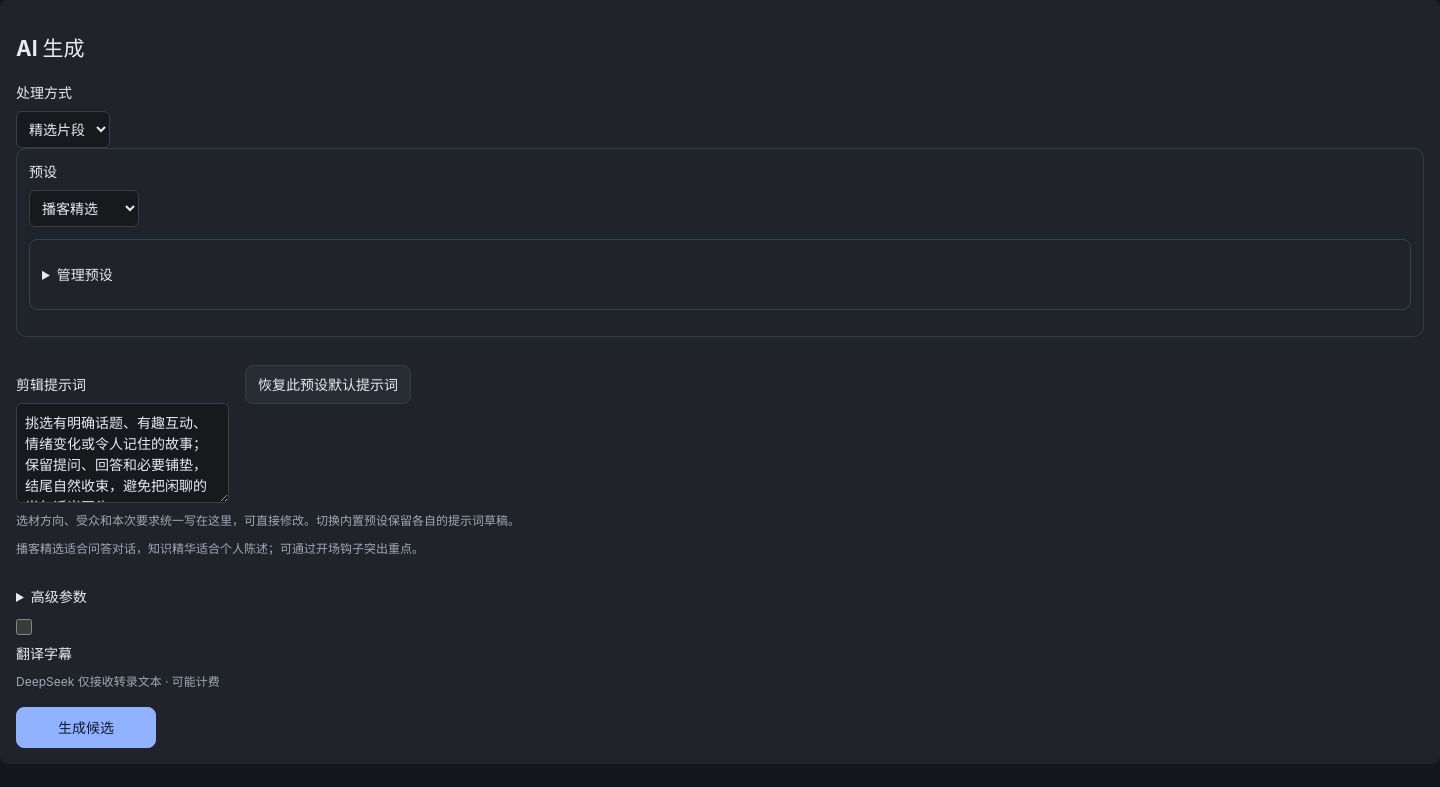
Scenario: 不完整的工作流程不能误存为模板，说明需要修正的参数
Click the heading "管理预设": click(85, 275) [57,266,113,283]
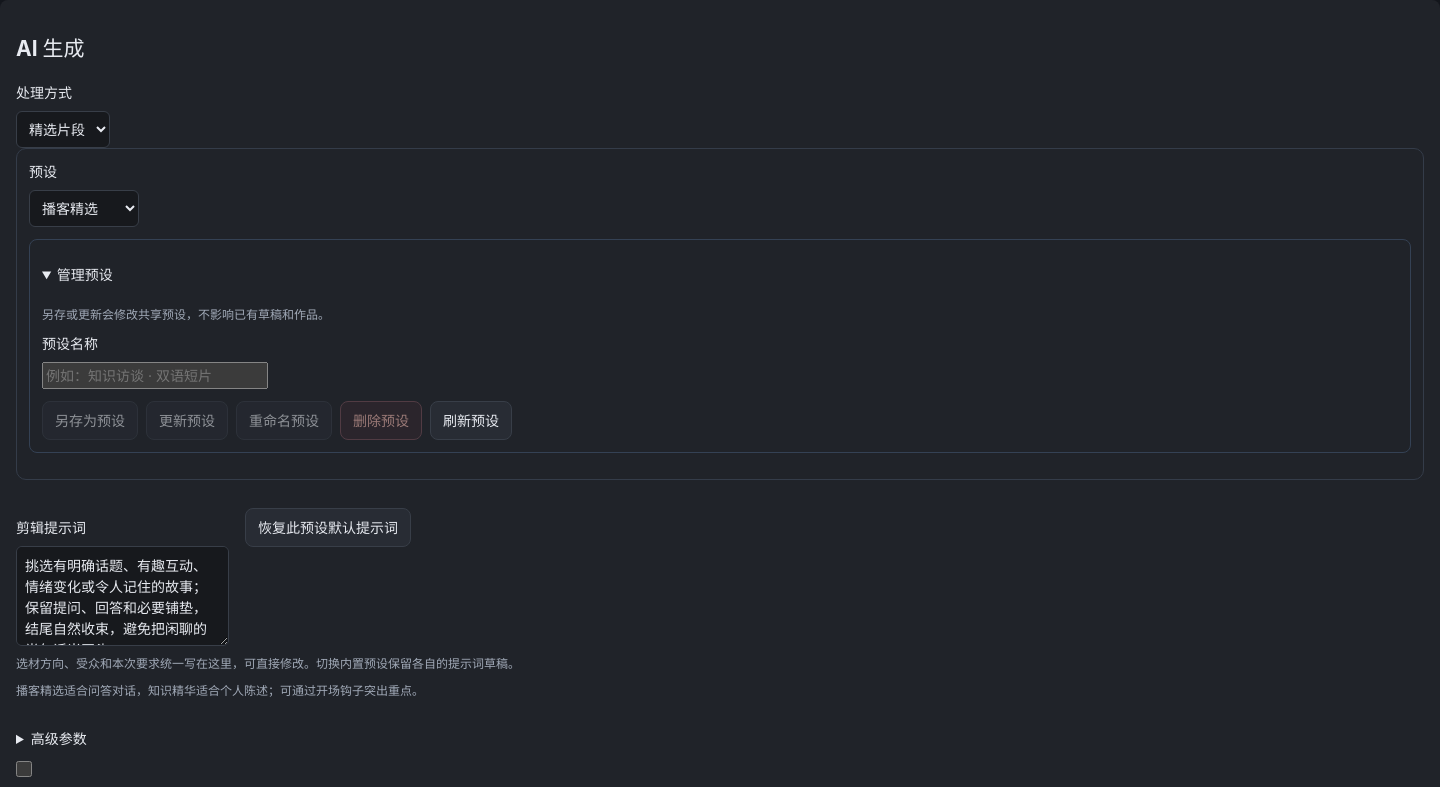
In the field labelled "预设名称": (155, 375) [42,362,268,388], type "待整理"
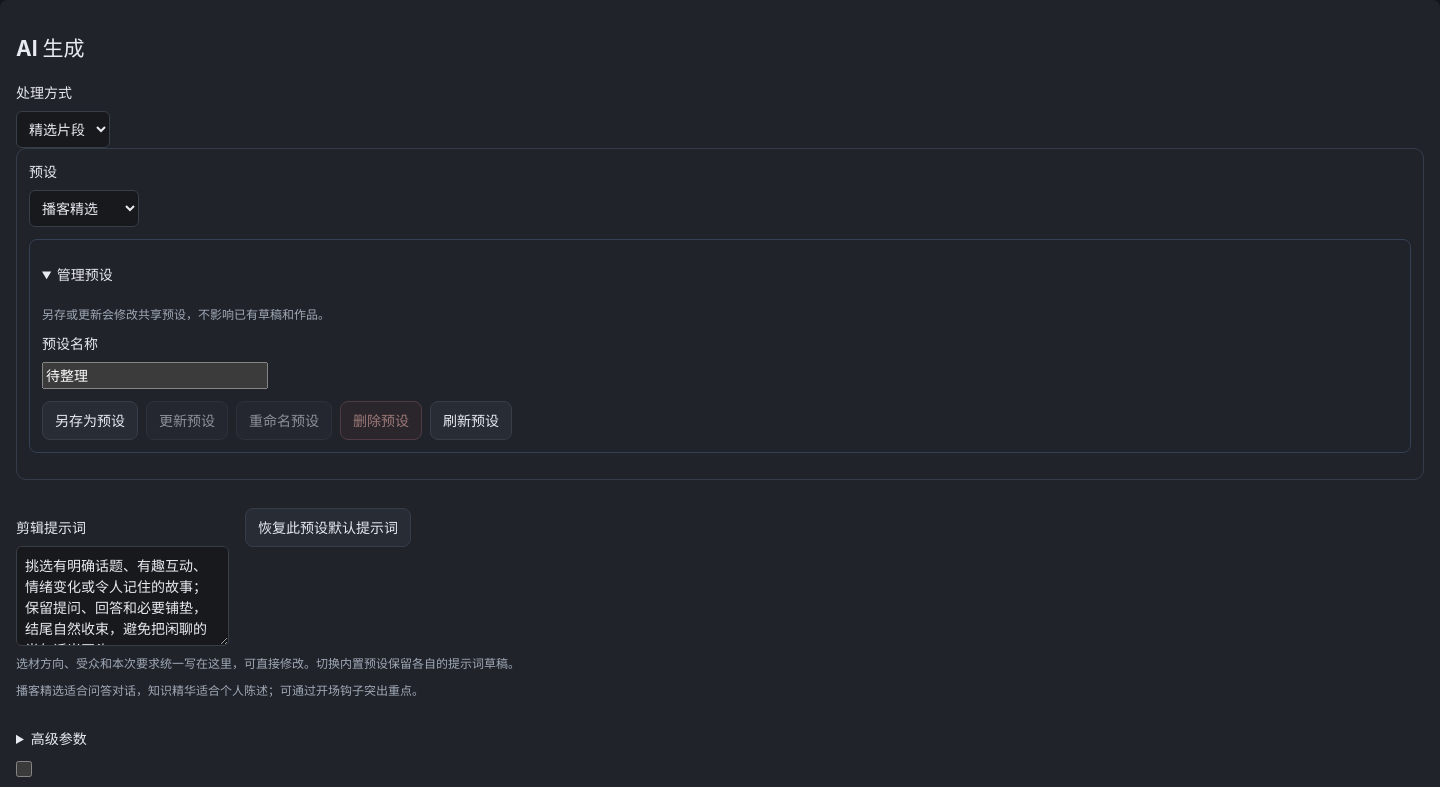
Click the button "另存为预设": click(90, 420) [42,400,138,440]
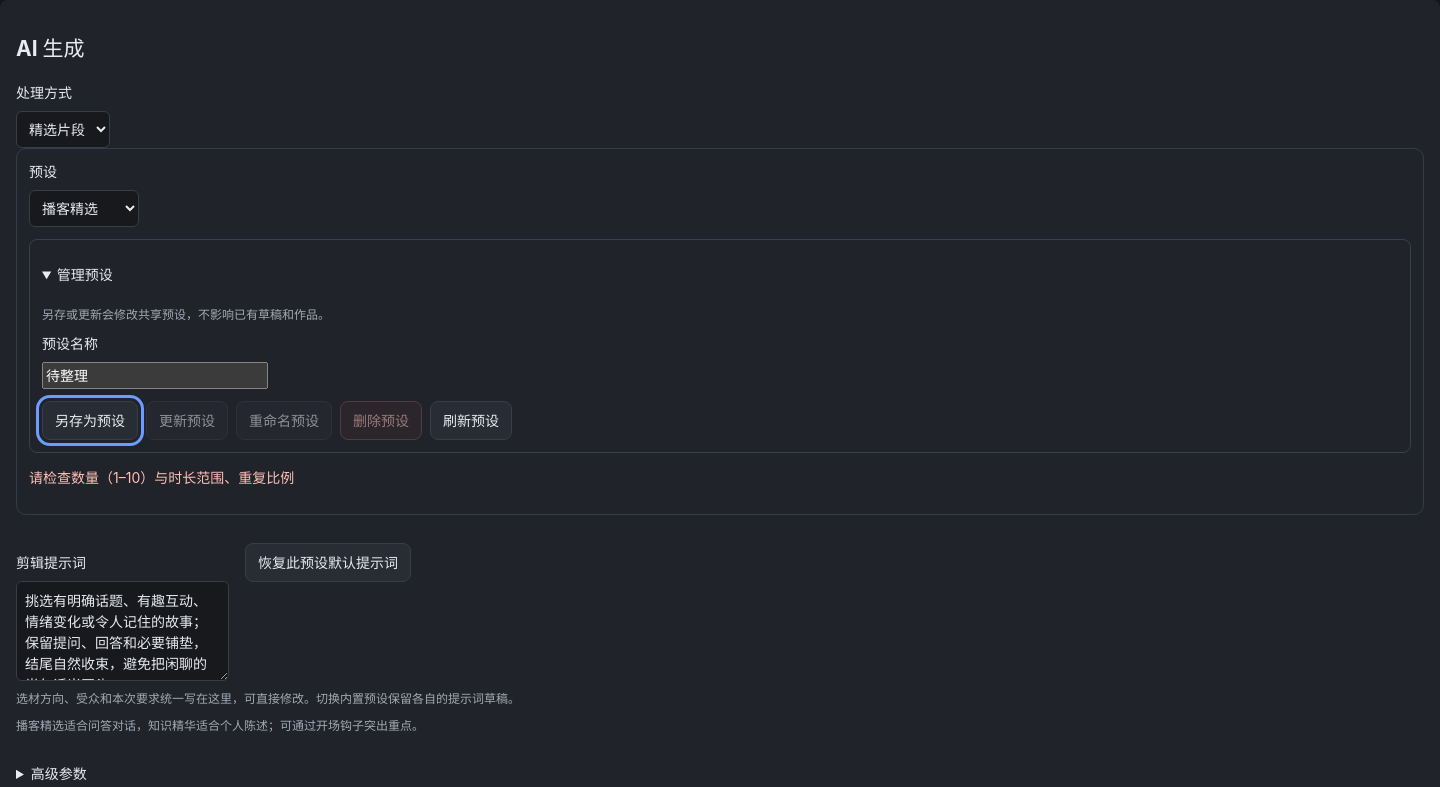
Expected: the message shows "数量（1–10）", [29,468,294,486]
